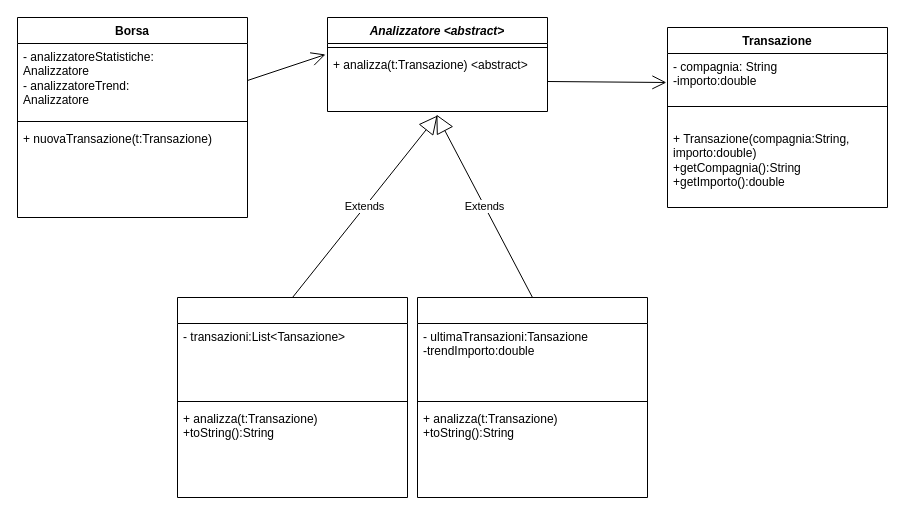
Some shapes in this 905 by 518 pixel diagram are drawn without their labels. Here are the shapes that lost their labels. From the top down, the box of each, then its label:
(176, 296, 408, 498): AnalizzatoreStatistiche
(416, 296, 648, 498): AnalizzatoreTrend
